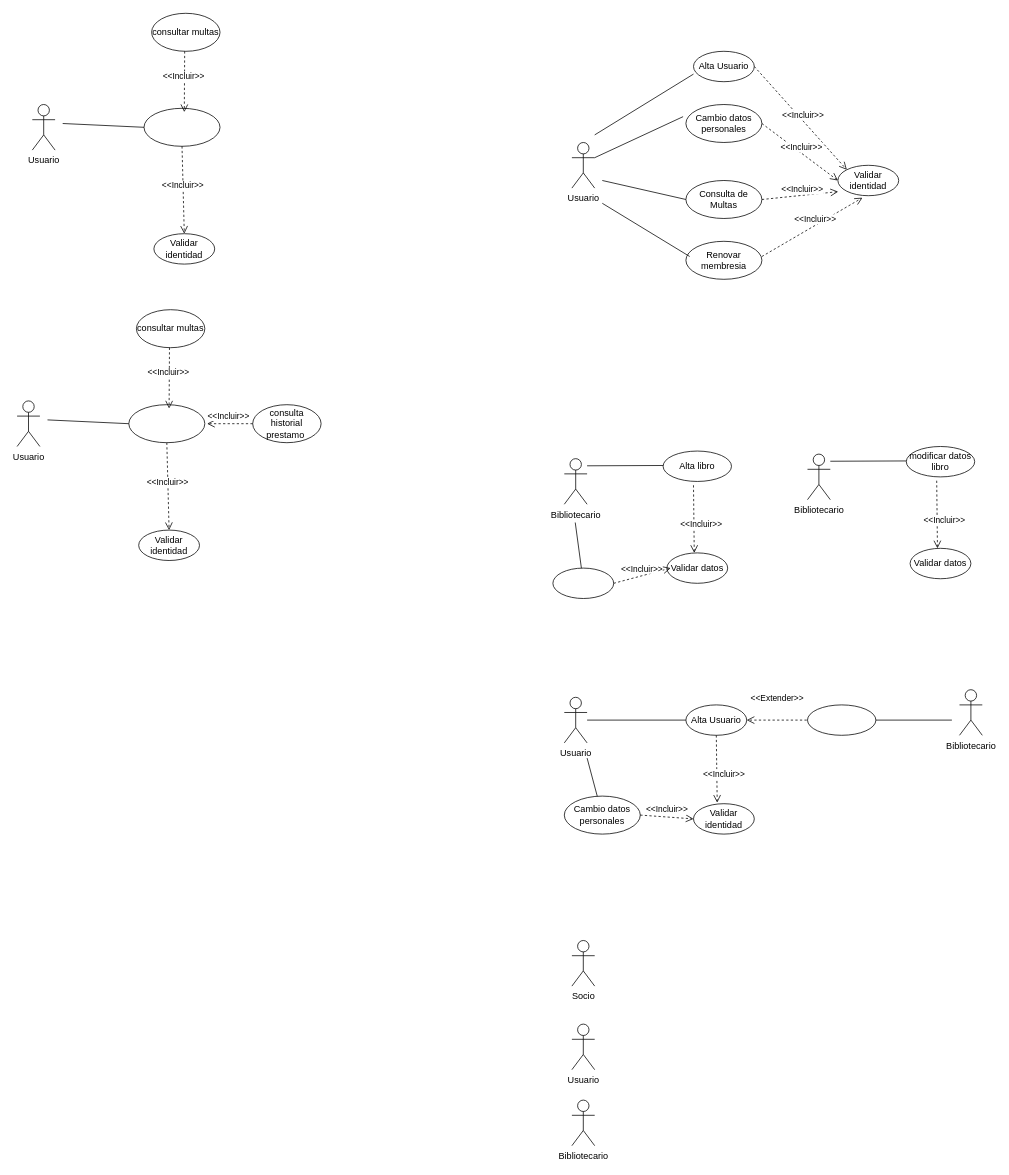
This 1009x1175 diagram has some shape labels left out. The centre of each missing label's shape, as x and y in pixels:
"brindar informacion" belongs at point 166,423.
"pagar multa" belongs at point 181,127.
"Prestamo libro" belongs at point 841,719.
"Ver informacion" belongs at point 583,582.
